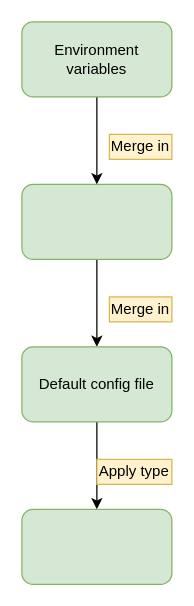
Some shapes in this 194 by 606 pixel diagram are drawn without their labels. The centre of each missing label's shape, as x and y in pixels:
"Final config file" belongs at (x=96, y=546).
"User config file" belongs at (x=96, y=221).
